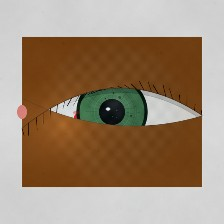hemorrhage_spot: (63, 84, 145, 151)
